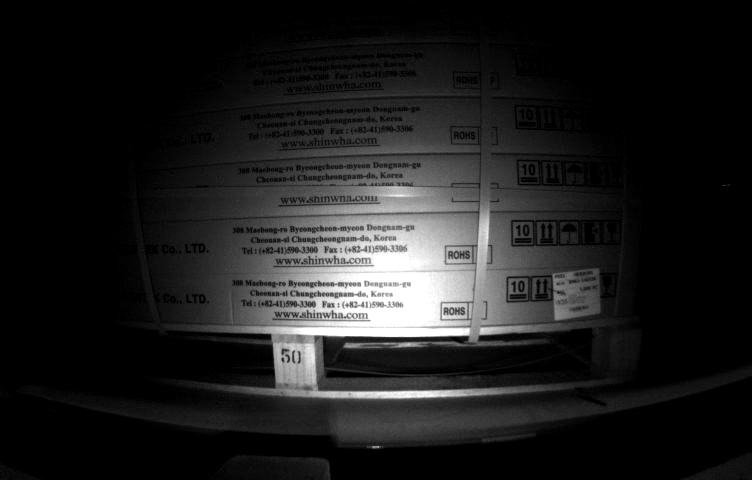True Barcode: (554, 267, 601, 319)
